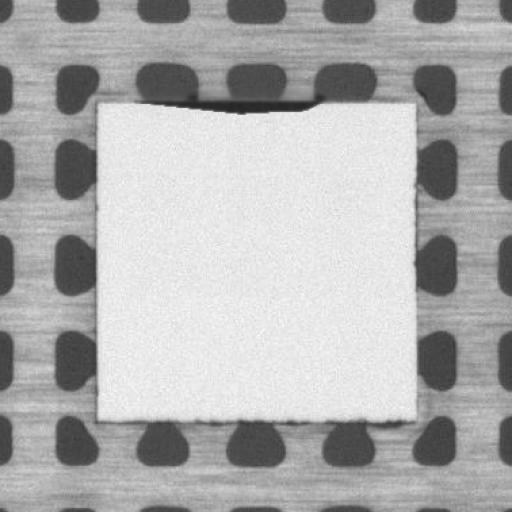DIE_BROKEN: (133, 94, 326, 115)
